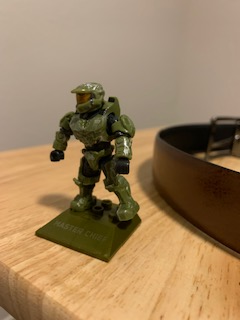chief: (49, 83, 141, 224)
spartan: (47, 81, 139, 222)
